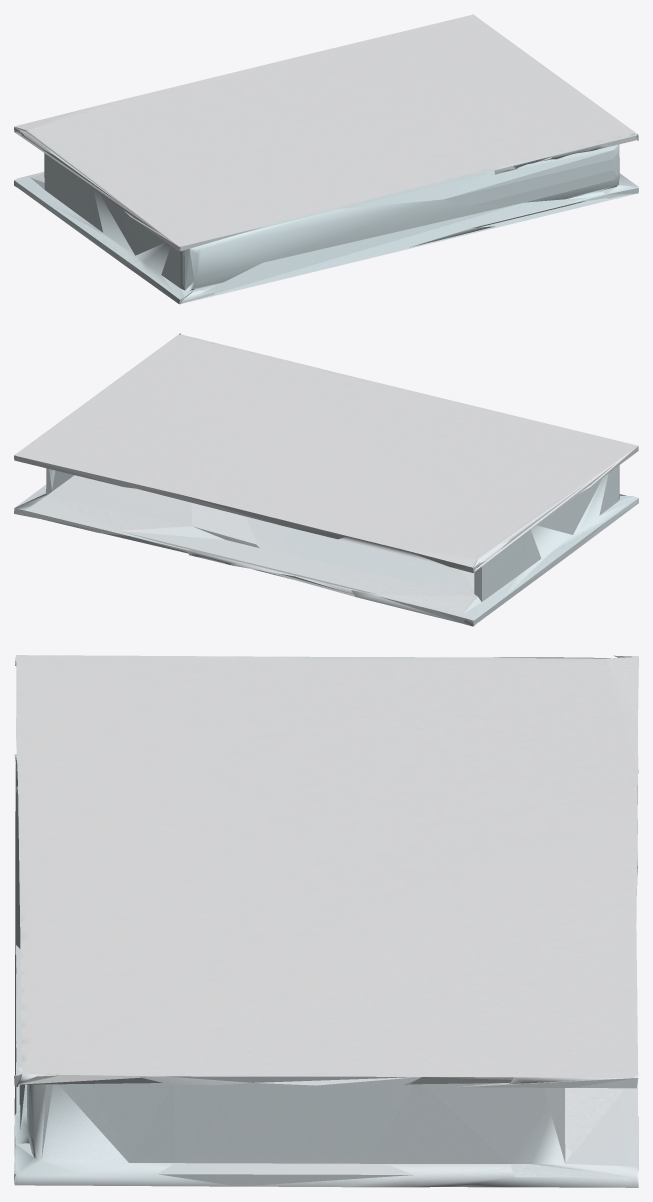
File: FoldedNote.fbx
3 renders of one model, top to bottom at view 1: azimuth 30°, elevation 25°; view 2: azimuth 150°, elevation 25°; view 3: azimuth 270°, elevation 25°, orthographic. The views are drawn at different scales.
Parts seen in each view (by area): view 1: Mesh_0; view 2: Mesh_0; view 3: Mesh_0.
Part boxes in pixels (left/top/right/bottom): Mesh_0: left=14, top=14, right=638, bottom=304; Mesh_0: left=14, top=333, right=638, bottom=626; Mesh_0: left=14, top=655, right=638, bottom=1187.
Bounding box in the file's own units: 190 × 24.1 × 119.
1 material, 1 textured.
